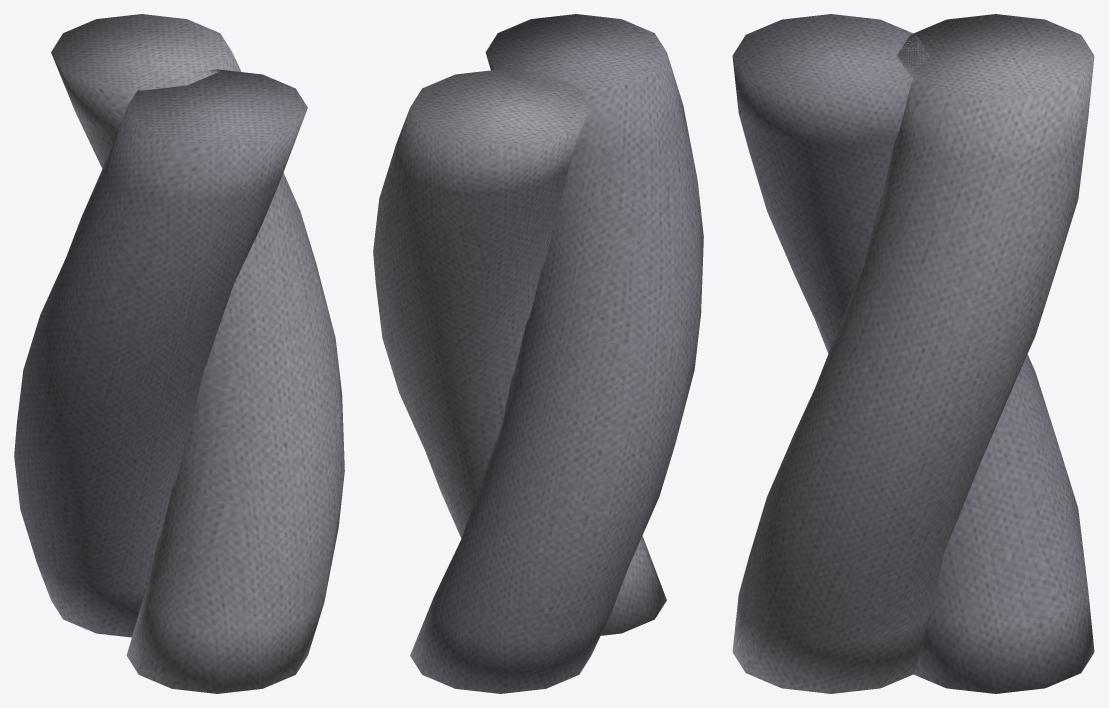
File: forget_seg.glb
The picture shows the model from 3 angles, left to right: view 1: azimuth 30°, elevation 25°; view 2: azimuth 150°, elevation 25°; view 3: azimuth 270°, elevation 25°; orthographic projection. The views are drawn at different scales.
Visible parts, largest first — view 1: forget_seg; view 2: forget_seg; view 3: forget_seg.
Boxes of the visible parts, box(x1,y1,x2,y2) form: forget_seg: box(14, 14, 344, 693); forget_seg: box(373, 14, 703, 693); forget_seg: box(732, 14, 1094, 693).
Size of the model in its own units: 0.22 by 0.4 by 0.22.
2 materials, 2 textured.
